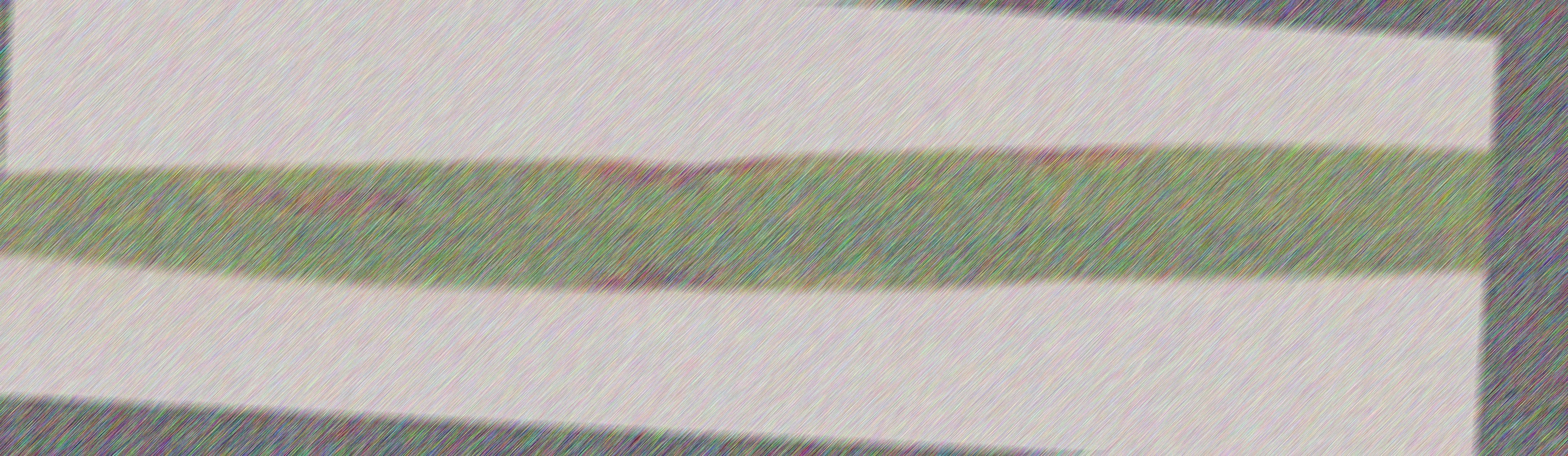Bacterial_Leaf_Blight: (559, 128, 818, 190), (959, 119, 1196, 181), (217, 165, 452, 223), (594, 246, 742, 305)
